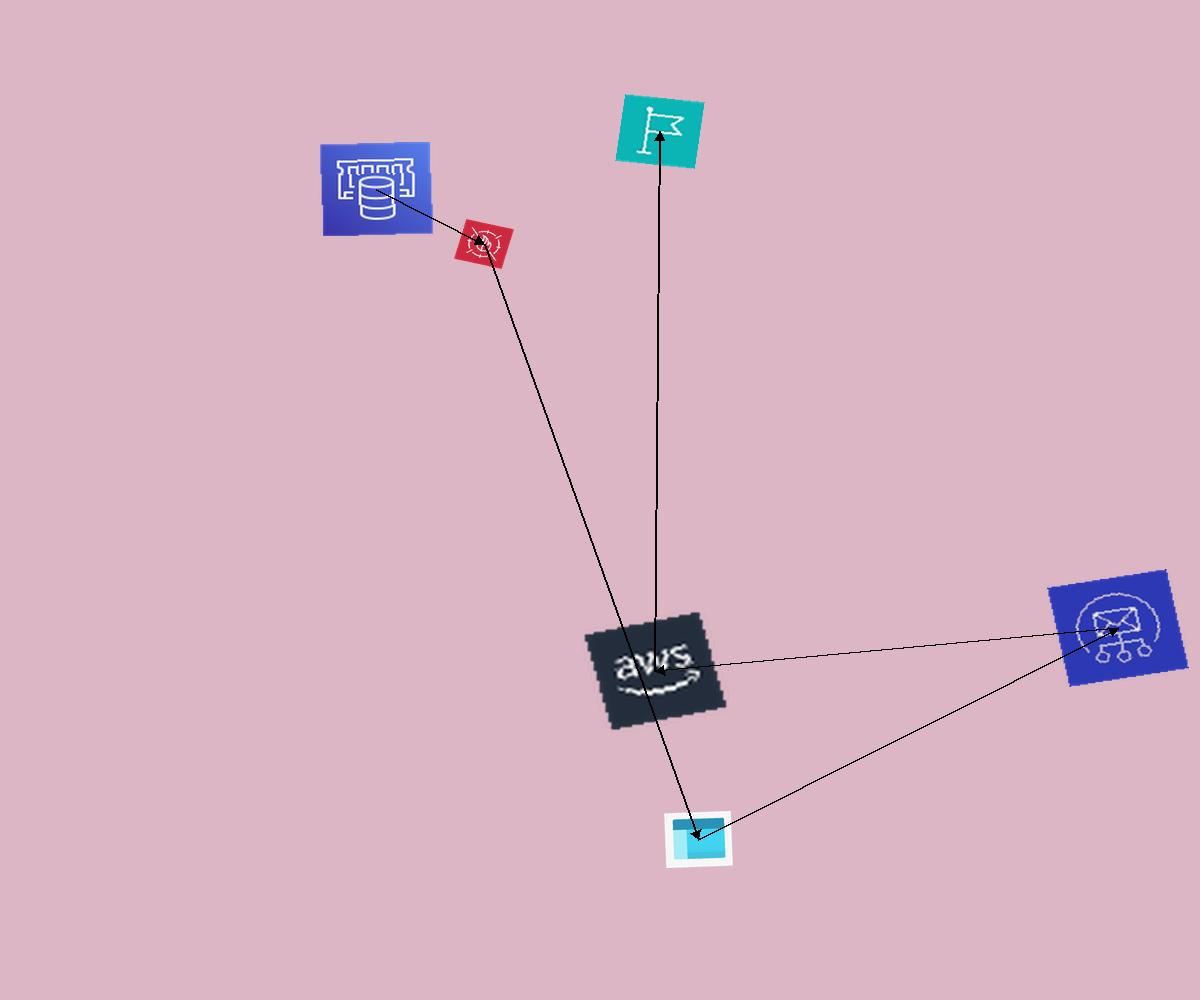AWS-Cloud-logo: (582, 610, 729, 732)
AWS-ElastiCache: (319, 141, 434, 237)
AWS-Region: (615, 94, 705, 169)
AWS-Simple-Email-Service: (1047, 569, 1189, 687)
AWS-WAF: (454, 219, 514, 269)
Azure_management-portal: (664, 811, 733, 868)
